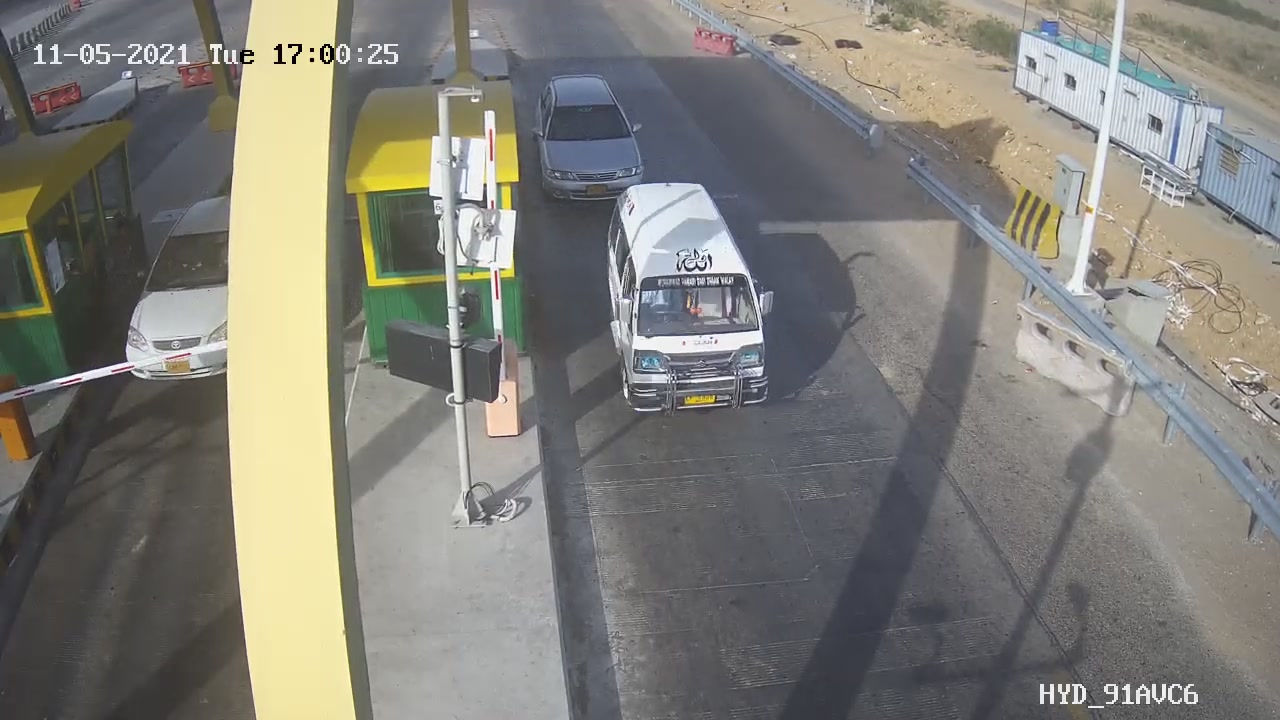F1: (587, 172, 798, 438), (517, 59, 660, 220)
